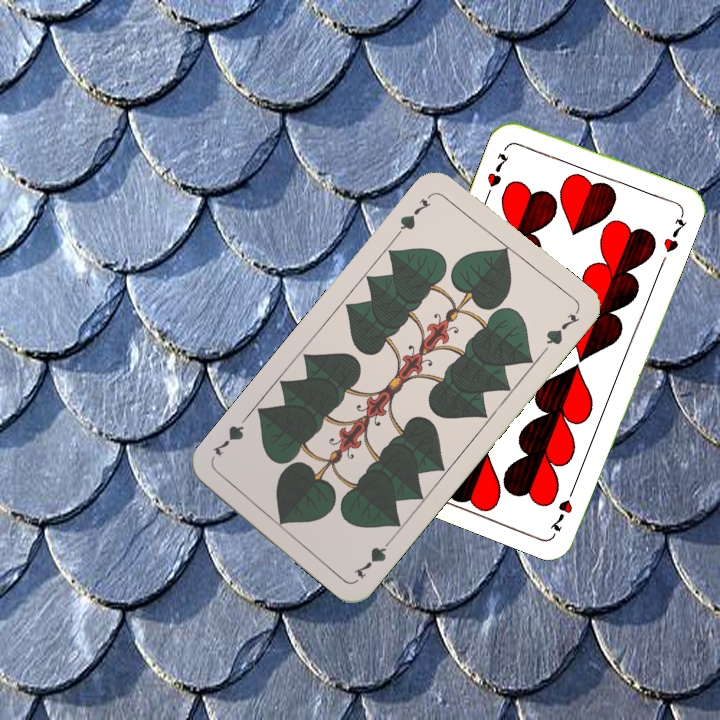G7: (349, 532, 396, 582), (392, 189, 436, 238)
H7: (545, 480, 579, 534), (483, 149, 512, 190)
